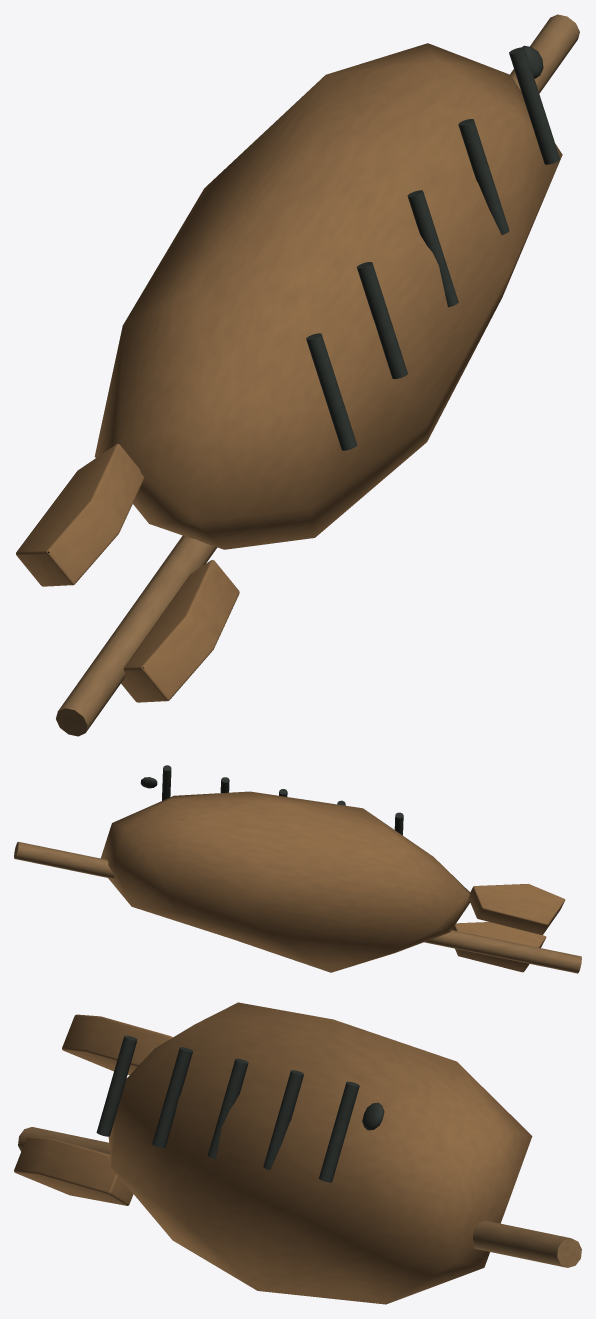
The picture shows the model from 3 angles, top to bottom: view 1: azimuth 30°, elevation 25°; view 2: azimuth 150°, elevation 25°; view 3: azimuth 270°, elevation 25°; orthographic projection. The views are drawn at different scales.
Parts seen in each view (by area): view 1: Cooked fish body; view 2: Cooked fish body; view 3: Cooked fish body.
Part boxes in pixels (x1,y1,x2,y2): Cooked fish body: (16,14,579,736); Cooked fish body: (14,765,581,973); Cooked fish body: (14,1002,581,1304).
Bounding box in the file's own units: 1.35 × 0.6231 × 0.9451.
Materials: 1 (1 with a texture image).
